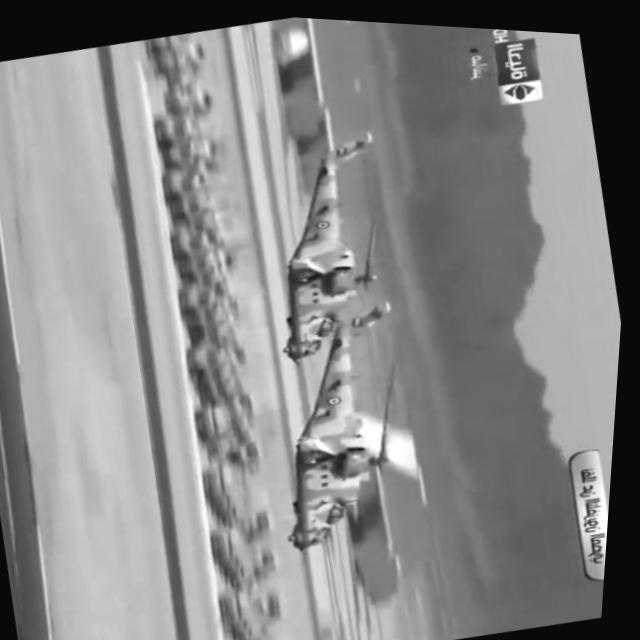helikopter: (265, 349, 429, 564), (226, 157, 376, 359)
